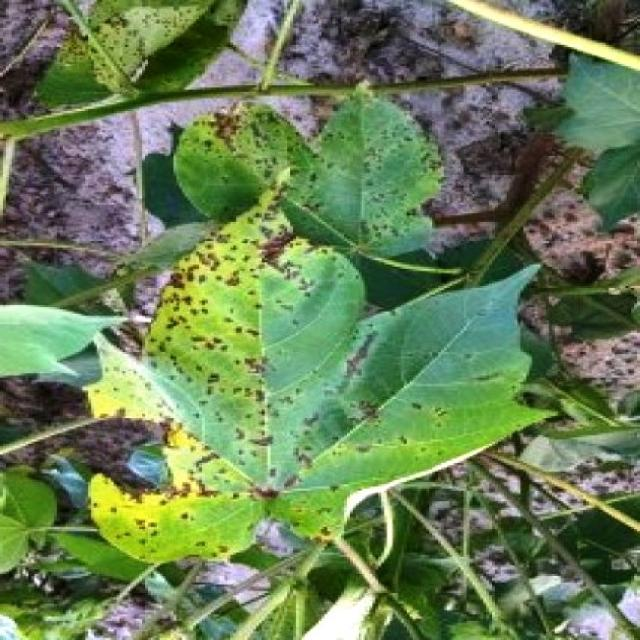Bacterial Blight: (158, 211, 350, 399)
